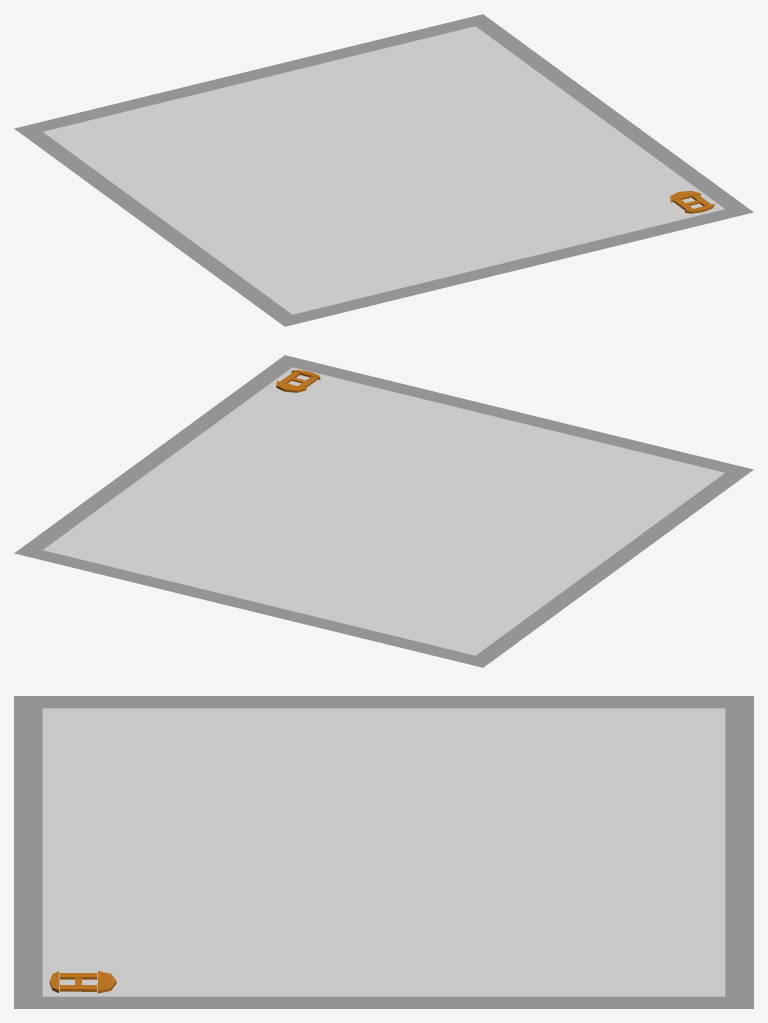
Rendered from Servilleta.fbx.
The picture shows the model from 3 angles, top to bottom: view 1: azimuth 30°, elevation 25°; view 2: azimuth 150°, elevation 25°; view 3: azimuth 270°, elevation 25°; orthographic projection. The views are drawn at different scales.
Visible parts, largest first — view 1: Servilleta; view 2: Servilleta; view 3: Servilleta.
Part boxes in pixels (bbox=[...]): Servilleta: bbox=[14, 14, 753, 326]; Servilleta: bbox=[14, 355, 753, 667]; Servilleta: bbox=[14, 696, 753, 1008].
Size of the model in its own units: 21.45 by 0.1262 by 21.45.
